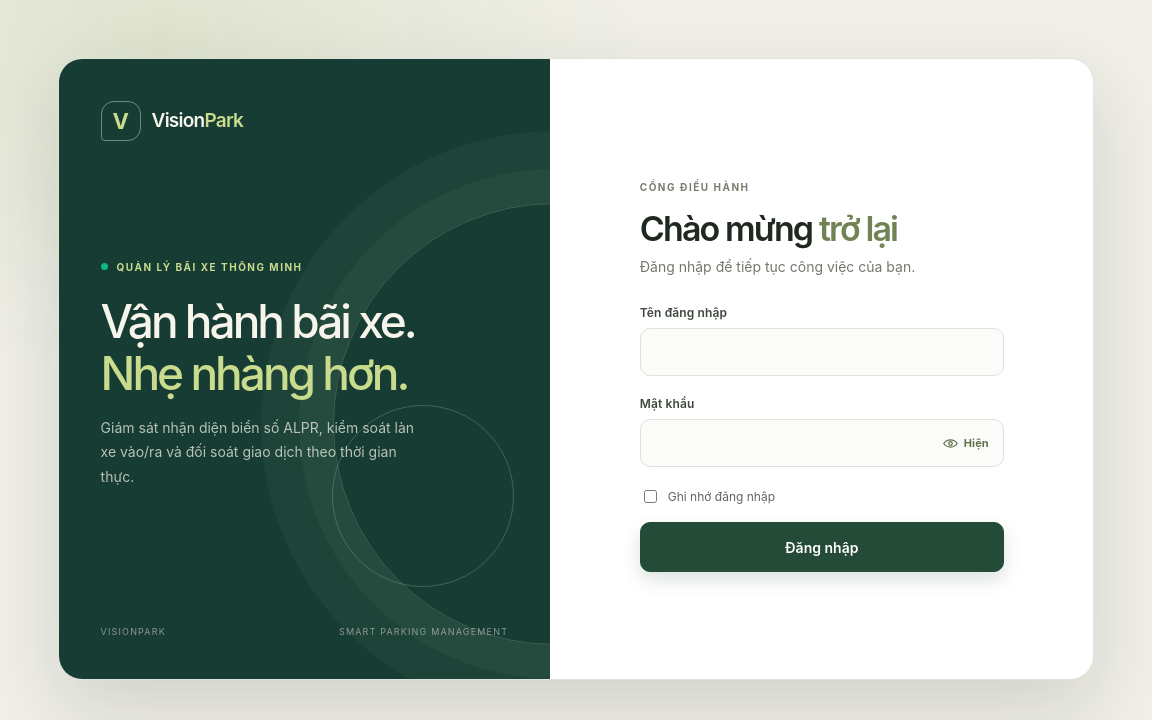
LoginPage › validates required
Click the button "Đăng nhập". click: (822, 548)
box: [640, 522, 1004, 572]
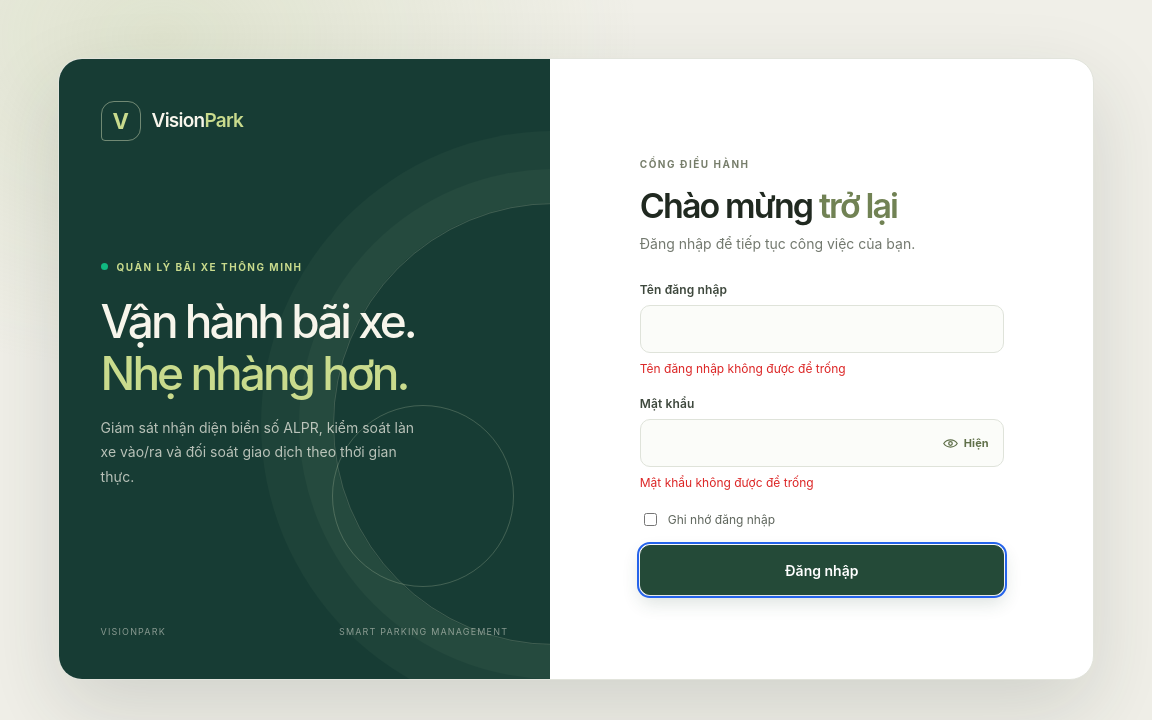
Now the text "Tên đăng nhập không được để trống" is shown, box [640, 362, 846, 376]
